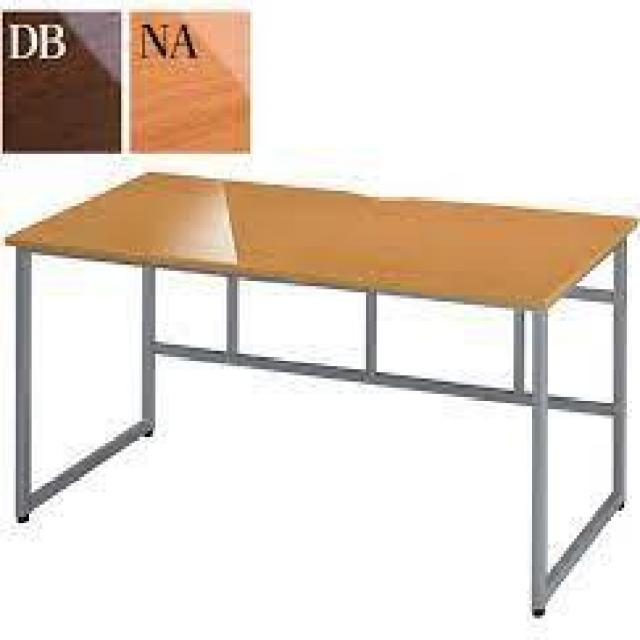table: (12, 158, 628, 604)
